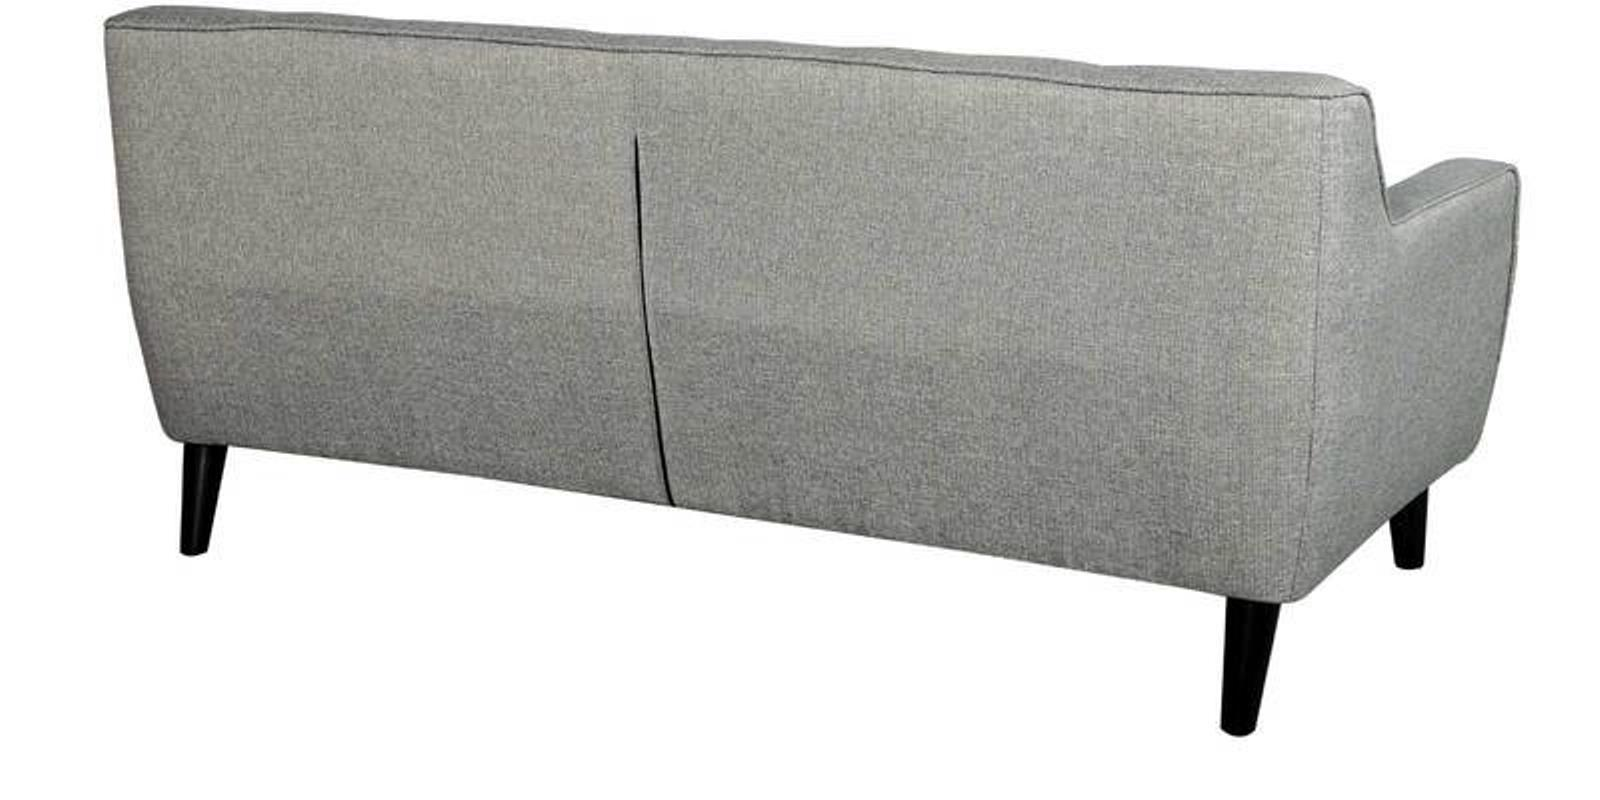Bogota Three Seater Sofa in Grey Colour by CasaCraft: (47, 3, 1528, 713)
